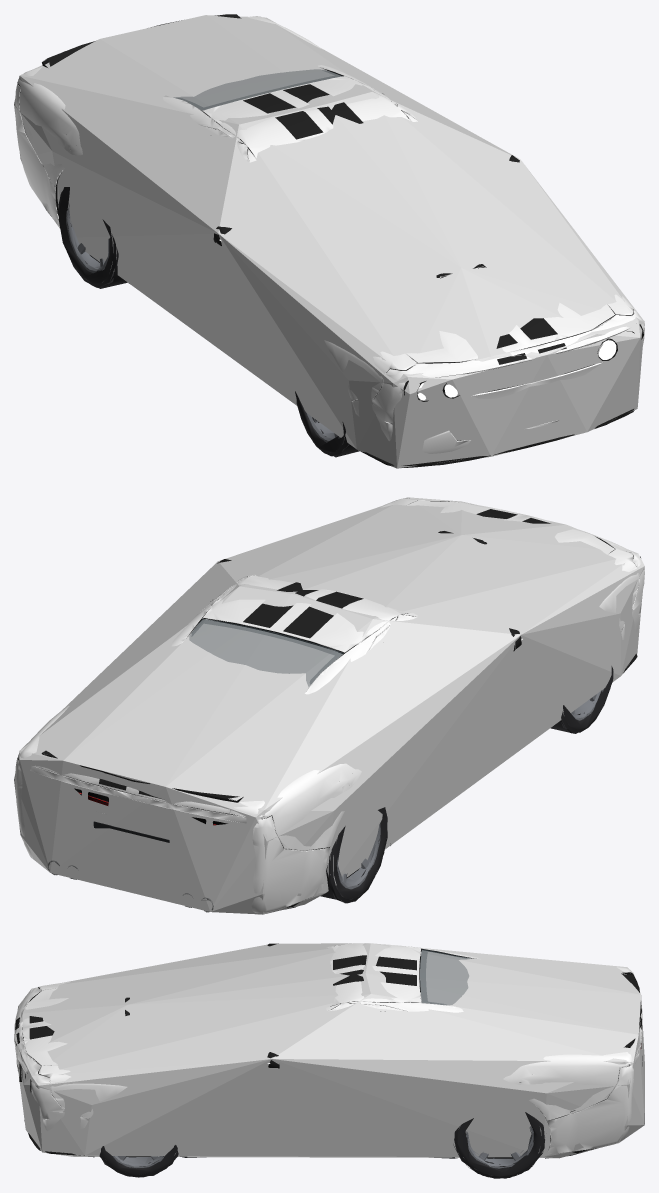
Rendered from arden_havoc_lod1.glb.
The picture shows the model from 3 angles, top to bottom: view 1: azimuth 30°, elevation 25°; view 2: azimuth 150°, elevation 25°; view 3: azimuth 270°, elevation 25°; orthographic projection. The views are drawn at different scales.
Visible parts, largest first — view 1: col_body, body, trim, glass, wheel_RR, wheel_FR; view 2: col_body, body, glass, trim, wheel_RR, wheel_FR; view 3: col_body, body, trim, wheel_RL, glass, wheel_FL.
Part boxes in pixels (box(x1,y1,x2,y2)): col_body: box(14, 15, 644, 468); body: box(15, 16, 644, 453); trim: box(17, 14, 643, 467); glass: box(174, 69, 342, 110); wheel_RR: box(58, 187, 127, 288); wheel_FR: box(295, 391, 359, 457); col_body: box(14, 497, 644, 914); body: box(15, 498, 644, 914); glass: box(189, 619, 343, 686); trim: box(17, 500, 640, 912); wheel_RR: box(320, 807, 387, 903); wheel_FR: box(550, 666, 613, 733); col_body: box(14, 943, 644, 1158); body: box(14, 943, 642, 1153); trim: box(15, 943, 644, 1158); wheel_RL: box(453, 1112, 544, 1178); glass: box(420, 949, 471, 1005); wheel_FL: box(99, 1145, 178, 1177).
Size of the model in its own units: 2.11 by 1.38 by 4.88.
Materials: 8 (1 with a texture image).
